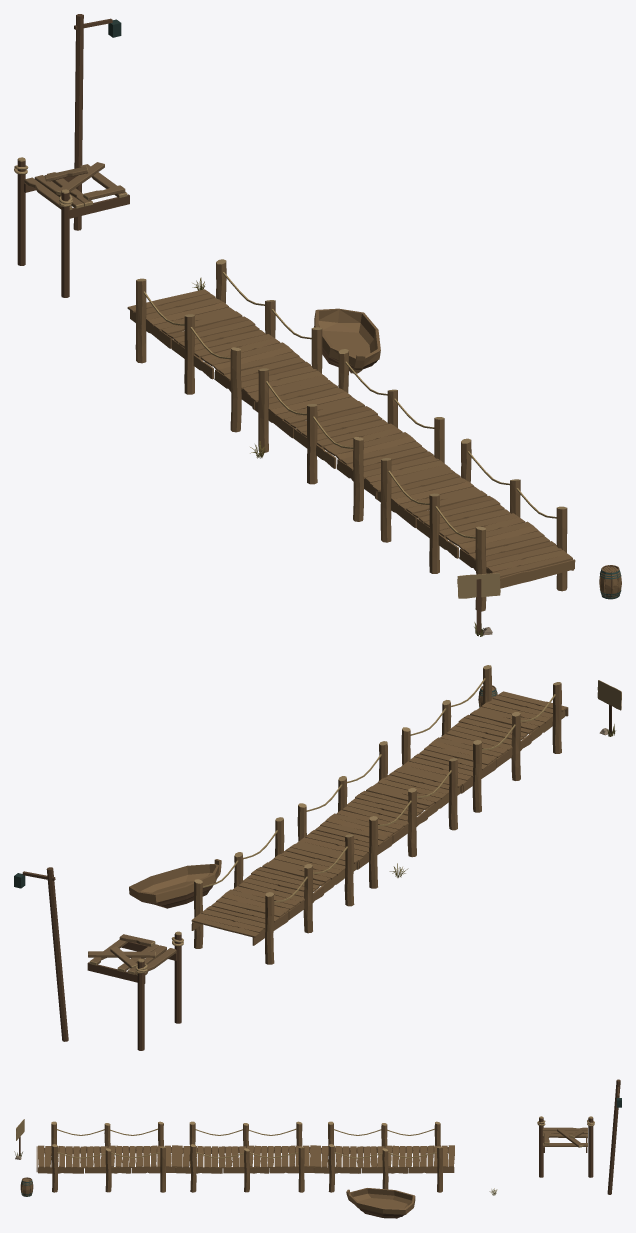
File: LmPier.glb
3 views of the same model, one above another, from view 1: azimuth 30°, elevation 25°; view 2: azimuth 150°, elevation 25°; view 3: azimuth 270°, elevation 25° (orthographic). The views are drawn at different scales.
Parts seen in each view (by area): view 1: LmPier; view 2: LmPier; view 3: LmPier.
Part boxes in pixels (<box>): LmPier: <box>14,14,621,636</box>; LmPier: <box>14,665,621,1050</box>; LmPier: <box>14,1079,621,1218</box>.
Bounding box in the file's own units: 9.89 × 8.18 × 37.78.
